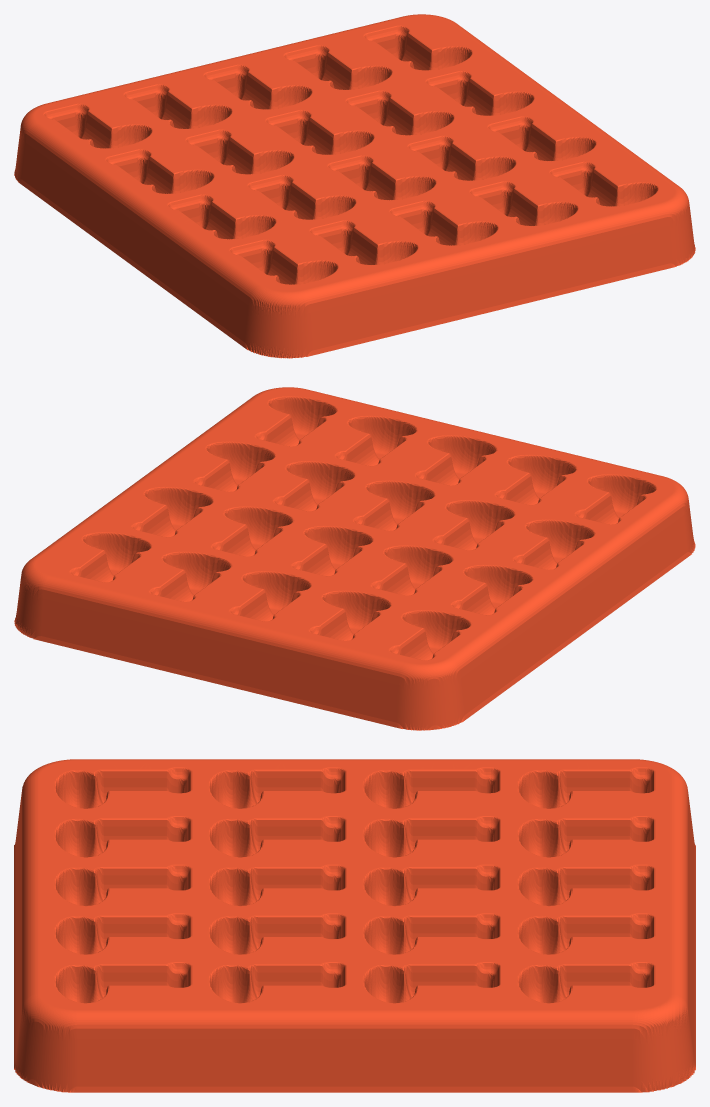
File: mold.glb
3 renders of one model, top to bottom at view 1: azimuth 30°, elevation 25°; view 2: azimuth 150°, elevation 25°; view 3: azimuth 270°, elevation 25°, orthographic. The views are drawn at different scales.
Parts seen in each view (by area): view 1: geometry_0; view 2: geometry_0; view 3: geometry_0.
Part boxes in pixels (x1,y1,x2,y2): geometry_0: [14, 14, 695, 358]; geometry_0: [14, 387, 695, 730]; geometry_0: [14, 759, 695, 1092].
Bounding box in the file's own units: 0.0912 × 0.0113 × 0.0972.
